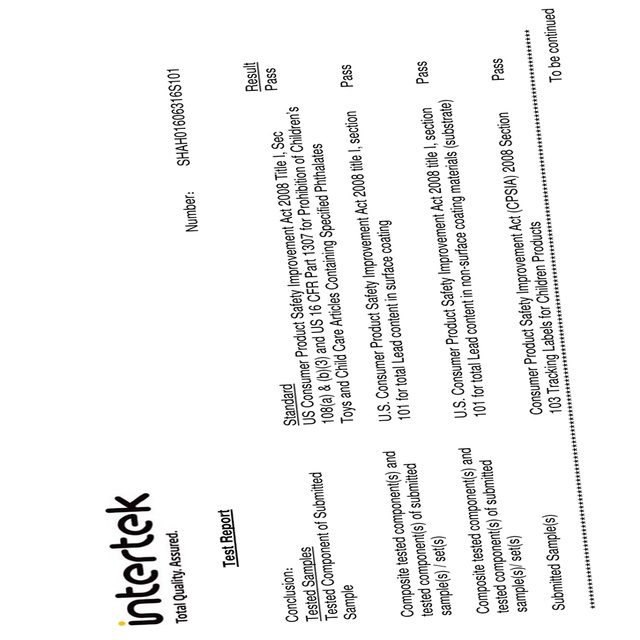intertek: (101, 491, 168, 628)
